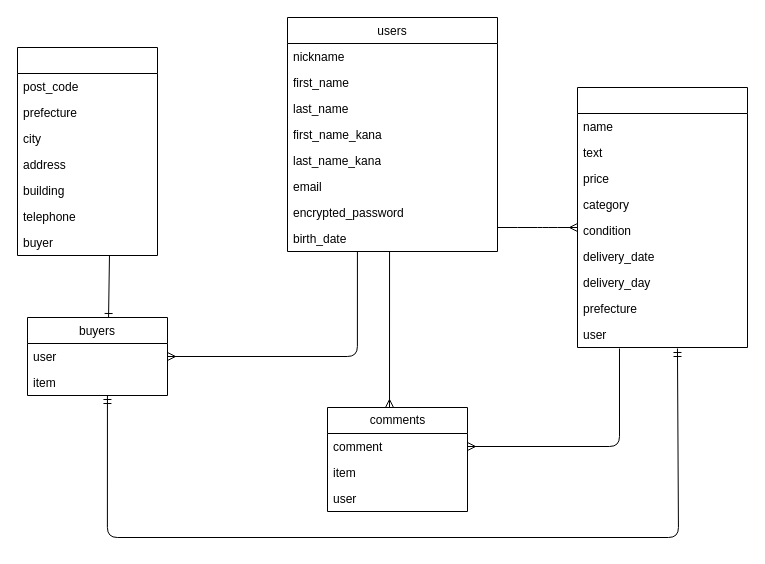
This 765x564 diagram has some shape labels left out. Each missing label, with the box of its shape:
addresses: (16, 46, 158, 256)
items: (576, 86, 748, 348)
